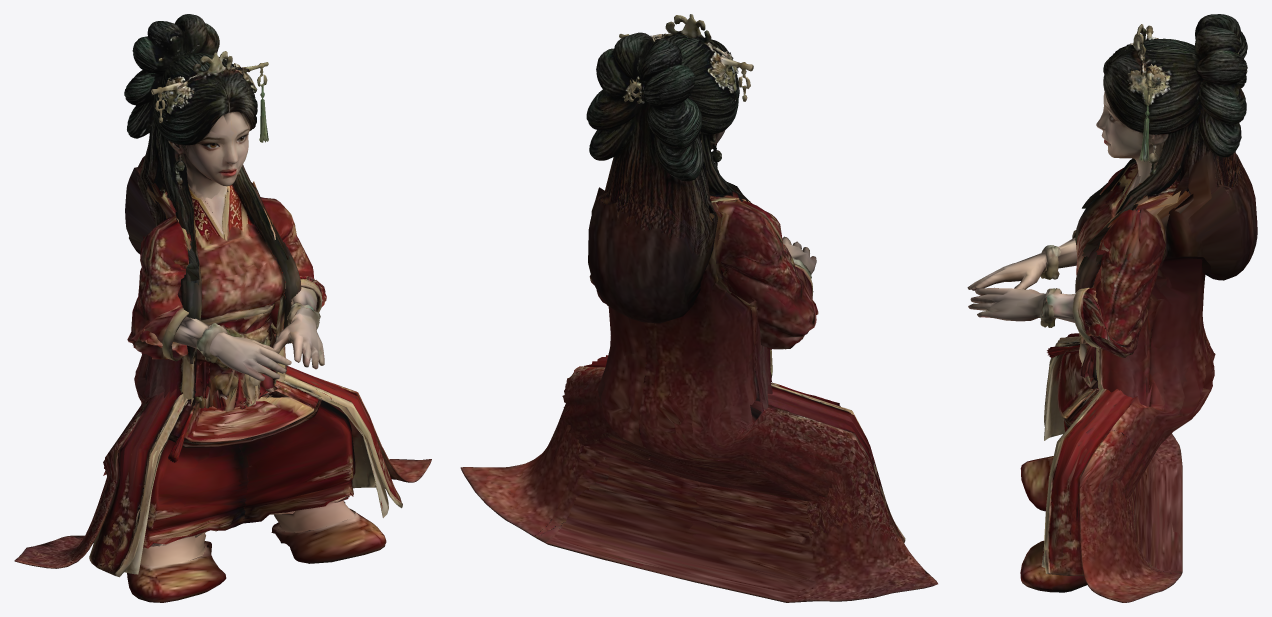
The model's file is diao-chan.glb.
3 renders of one model, left to right at view 1: azimuth 30°, elevation 25°; view 2: azimuth 150°, elevation 25°; view 3: azimuth 270°, elevation 25°, orthographic. The views are drawn at different scales.
Size of the model in its own units: 1.79 by 2.04 by 1.04.
1 material, 1 textured.
